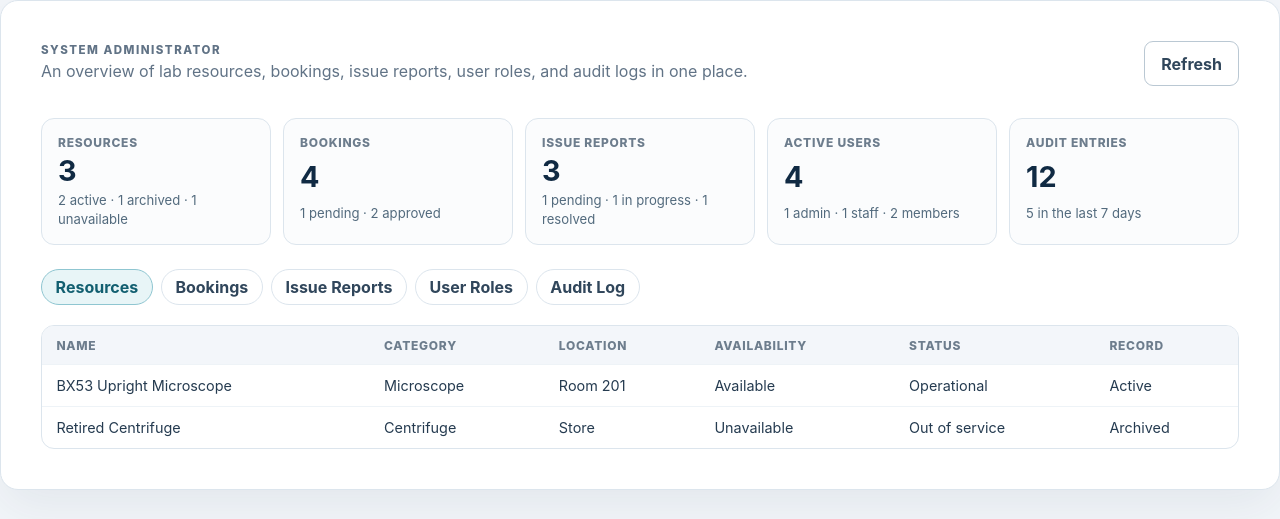
US-17 administrative records › lists issue reports with their reporter, status, and recorded outcome
Click the tab "Issue Reports" at (339, 287), box [271,269,407,305]
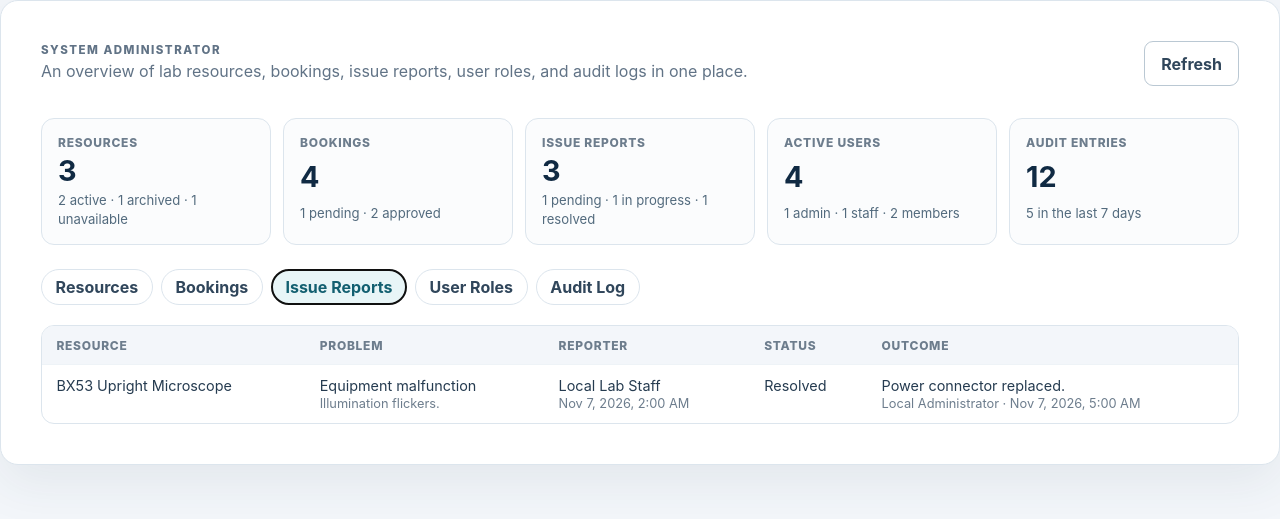
Expected: the cell "Equipment malfunction Illumination flickers." is shown, [305,364,544,423]
Expected: the text "Illumination flickers." is shown, [320,396,440,411]
Expected: the cell "Resolved" is shown, [750,364,867,423]
